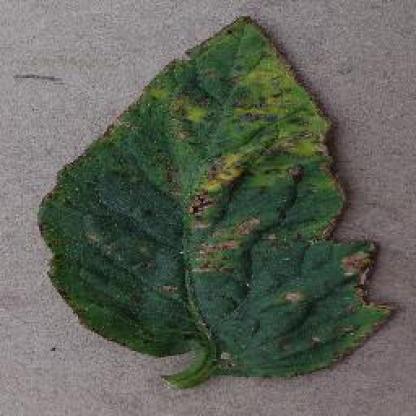bad leaf: (111, 18, 364, 332)
